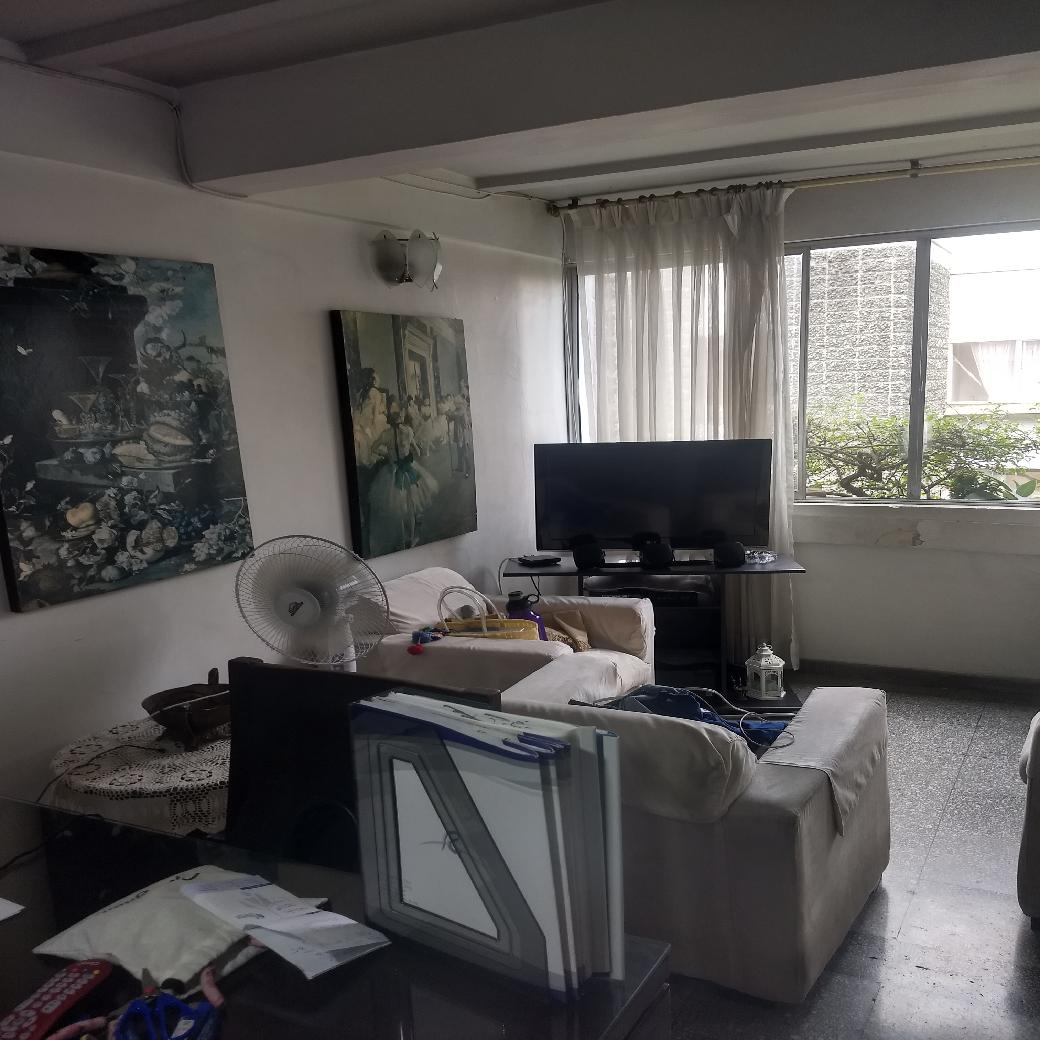tv: (531, 442, 775, 550)
ventilador: (234, 534, 394, 669)
